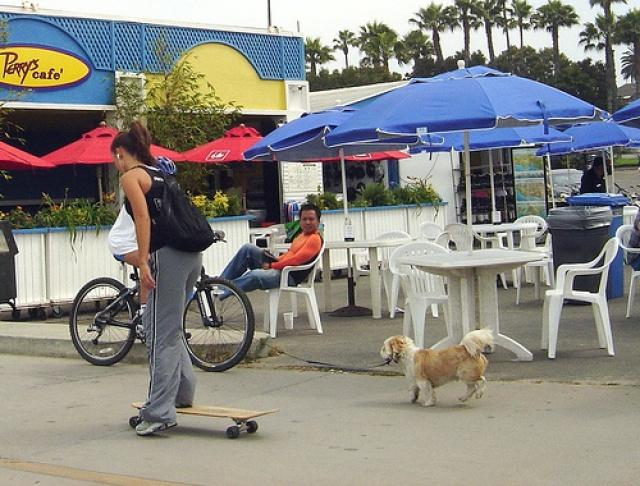Kursi: (538, 235, 618, 358)
